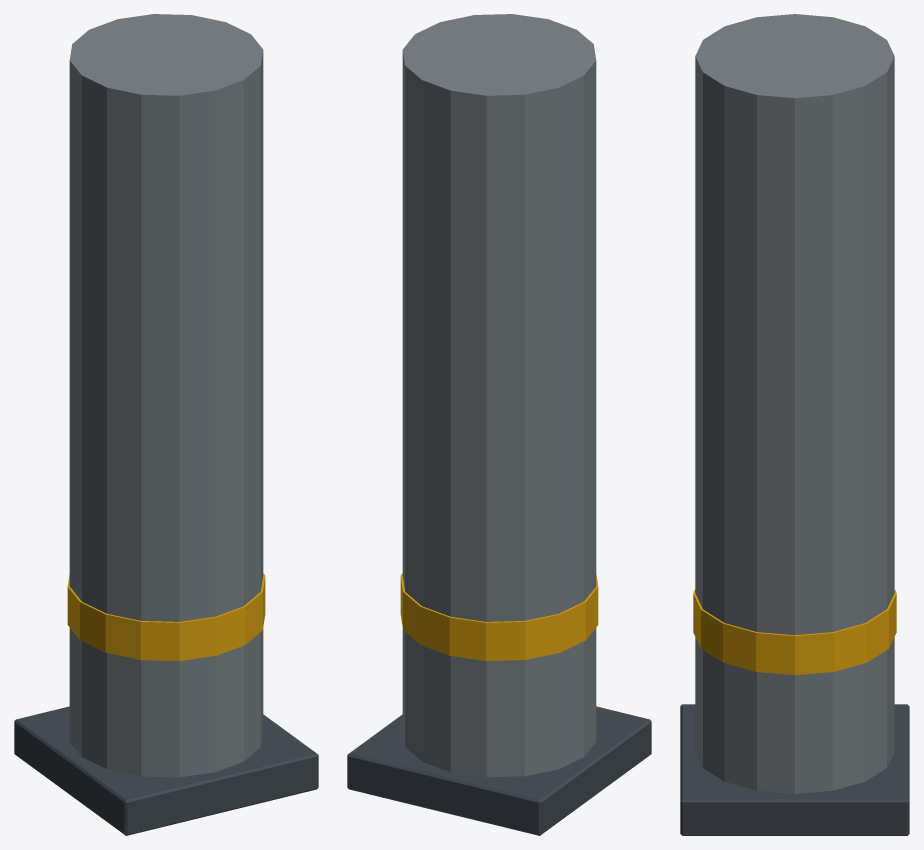
Rendered from ConcreteSupportRound.fbx.
3 views of the same model, side by side, from view 1: azimuth 30°, elevation 25°; view 2: azimuth 150°, elevation 25°; view 3: azimuth 270°, elevation 25° (orthographic). The views are drawn at different scales.
Parts seen in each view (by area): view 1: ConcreteSupportRound; view 2: ConcreteSupportRound; view 3: ConcreteSupportRound.
Part boxes in pixels (<box>): ConcreteSupportRound: <box>14,14,318,835</box>; ConcreteSupportRound: <box>347,14,651,835</box>; ConcreteSupportRound: <box>680,14,909,835</box>.
Size of the model in its own units: 85.1 by 300 by 85.1.
Materials: 1 (1 with a texture image).
